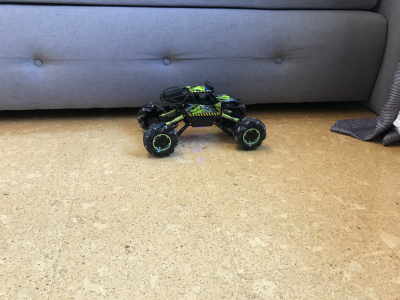remote control car: (133, 75, 269, 161)
